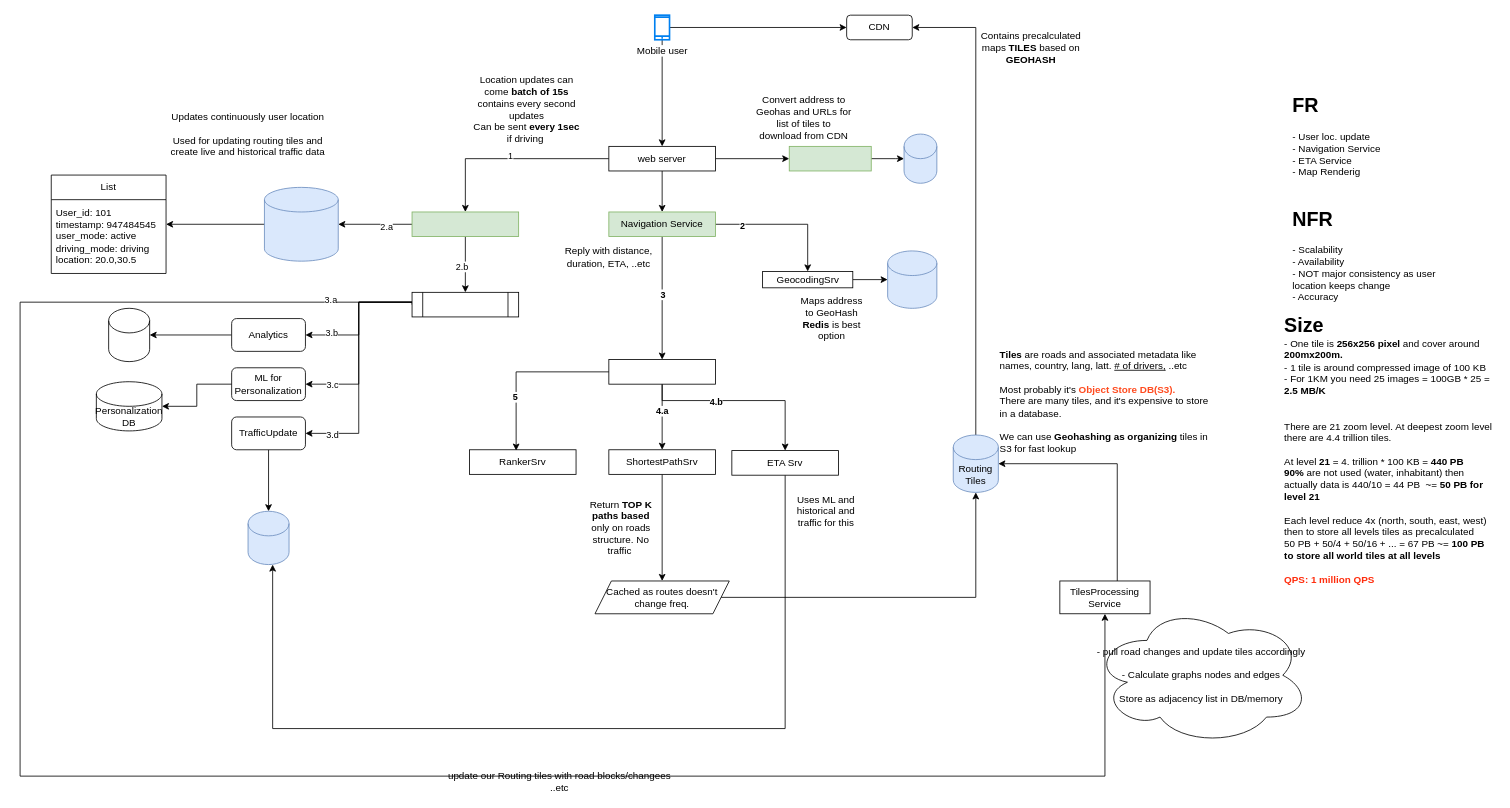
Image size: 1510x808. Some labels were removed from this diagram. The centre of each missing label's shape, as x and y in pixels:
"Analytics DB" goes at [129,335].
"Cassandra for high load and partitioning" goes at [301,224].
"Geocoding DB" goes at [912,279].
"LocationService" goes at [465,224].
"RoutePlannerSrv" goes at [661,371].
"TilesURLsService" goes at [829,158].
"Traffic DB" goes at [268,537].
"User Loc. Updates Kafka" goes at [465,304].
